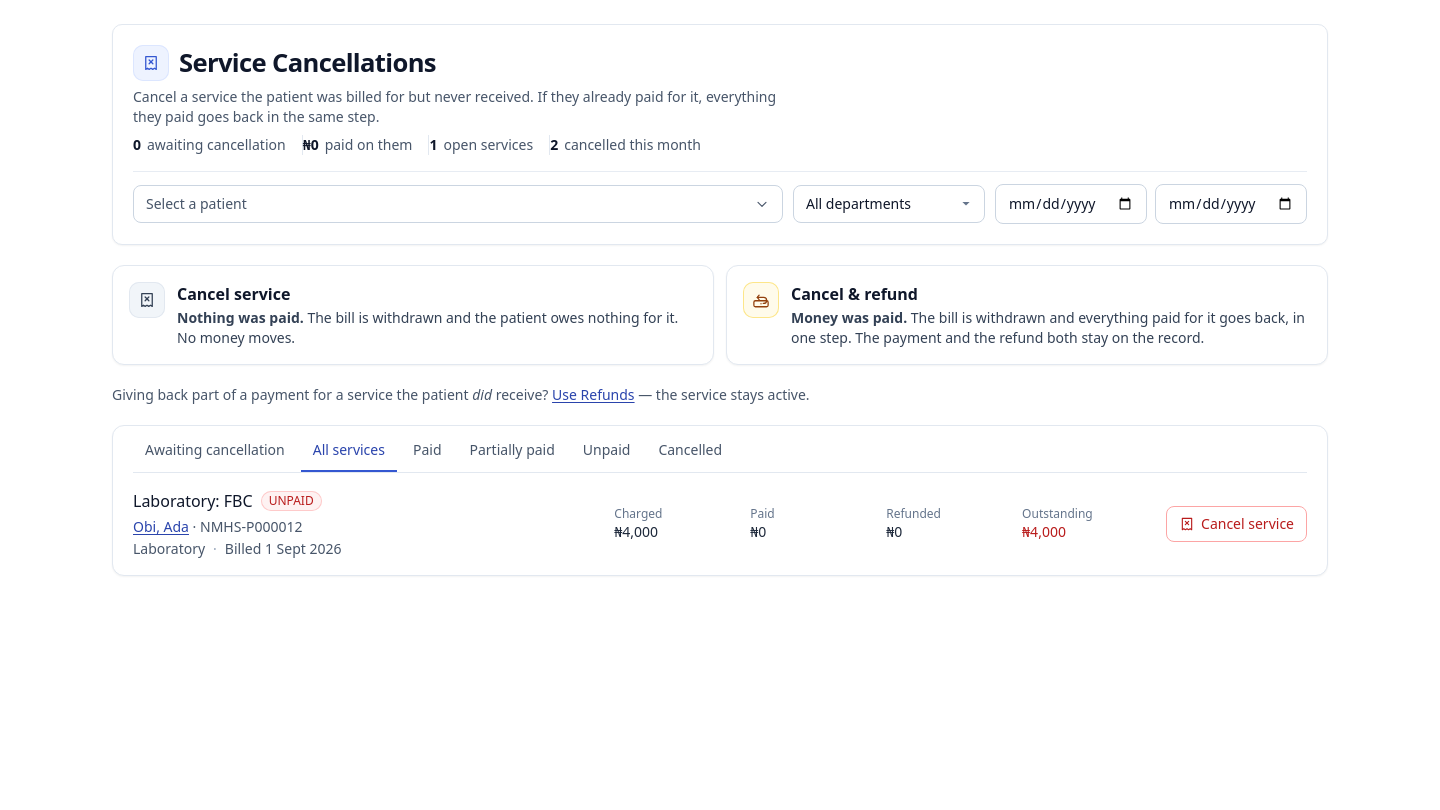
finding a service › says so when nothing is waiting to be cancelled
Expected: the text "Laboratory: FBC" is shown, [133,489,253,513]
Step 1. Click the button "Awaiting cancellation" → (215, 451), box [133,430,297,472]
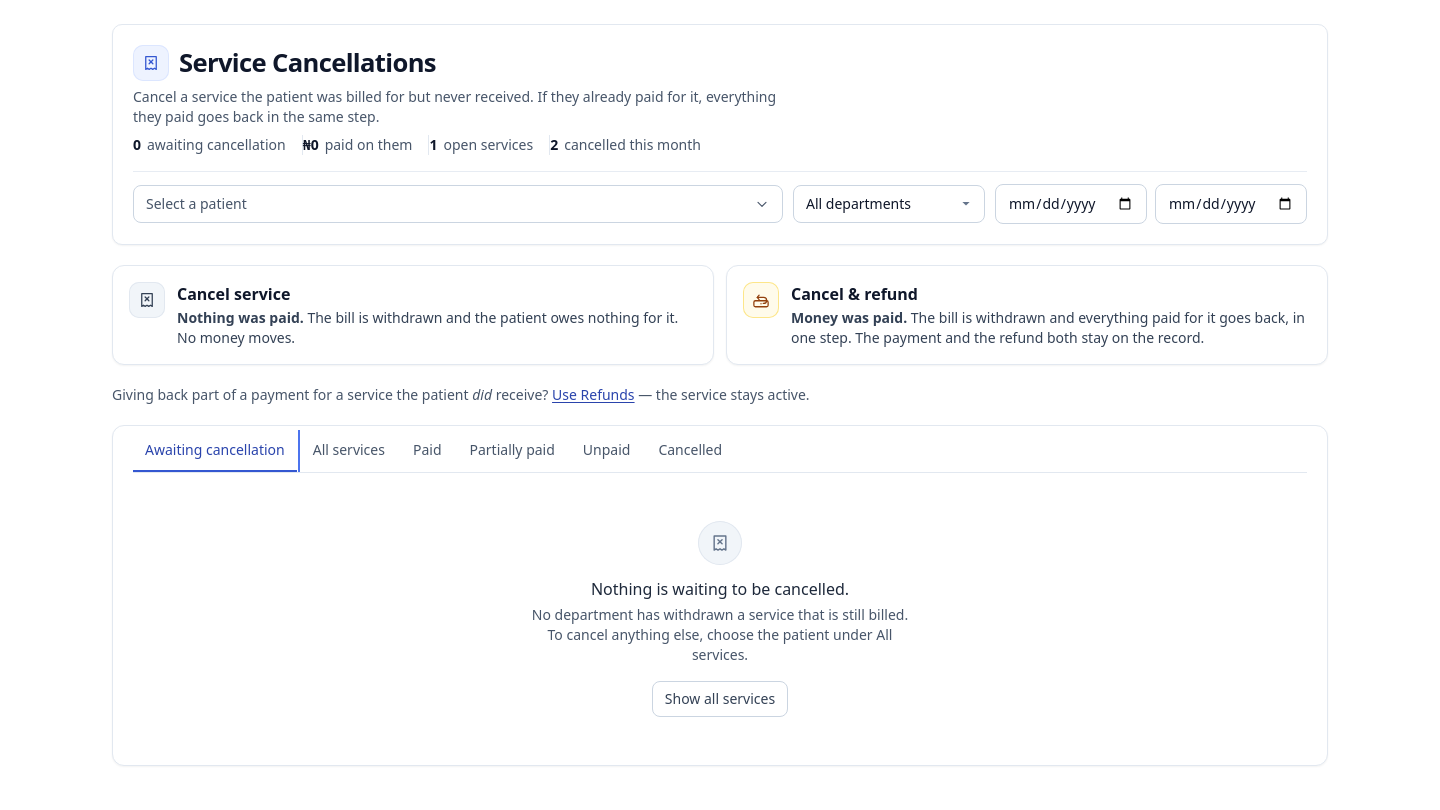
Now the text "Nothing is waiting to be cancelled." is shown, box [591,578,849,600]
